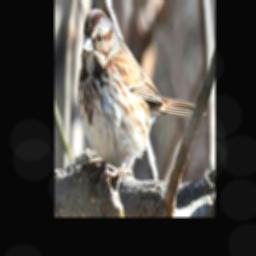Sparrow: (77, 5, 208, 192)
